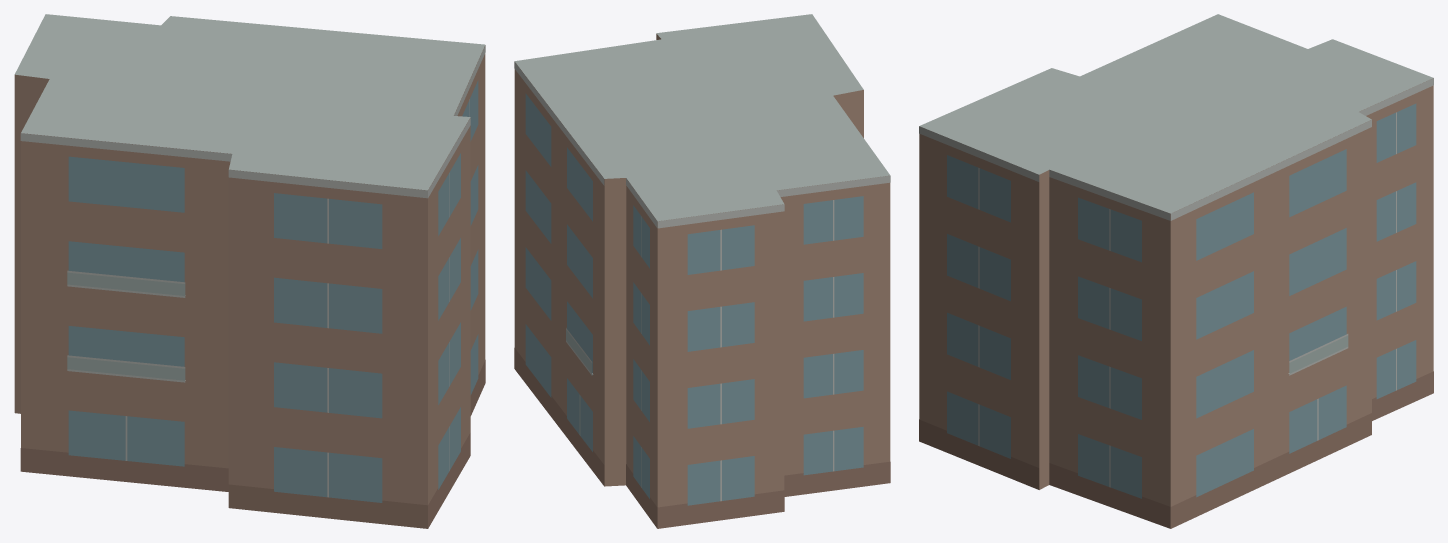
The model's file is survey-upis-32610878.glb.
The picture shows the model from 3 angles, left to right: view 1: azimuth 30°, elevation 25°; view 2: azimuth 150°, elevation 25°; view 3: azimuth 270°, elevation 25°; orthographic projection. The views are drawn at different scales.
Visible parts, largest first — view 1: survey-upis-32610878.tmp; view 2: survey-upis-32610878.tmp; view 3: survey-upis-32610878.tmp.
Part boxes in pixels (box(x1,y1,x2,y2)): survey-upis-32610878.tmp: box(14, 14, 485, 528); survey-upis-32610878.tmp: box(514, 14, 890, 528); survey-upis-32610878.tmp: box(919, 14, 1433, 528).
Size of the model in its own units: 14.13 by 10.4 by 15.4.
